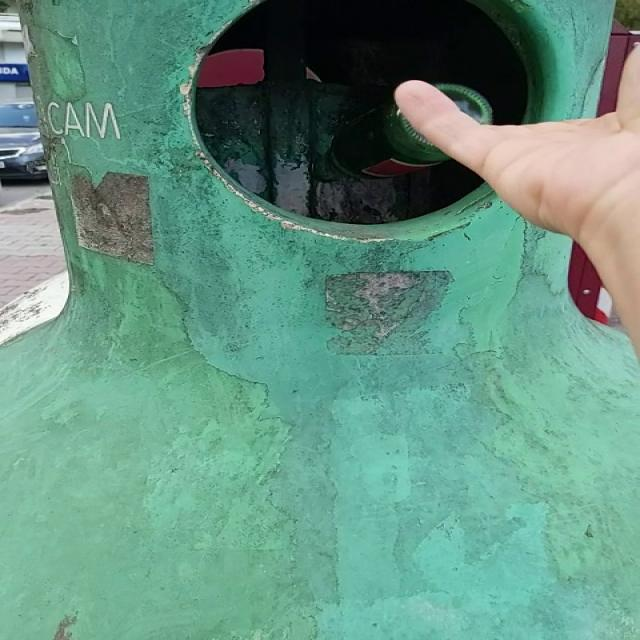glass: (316, 103, 452, 179), (435, 84, 493, 124)
